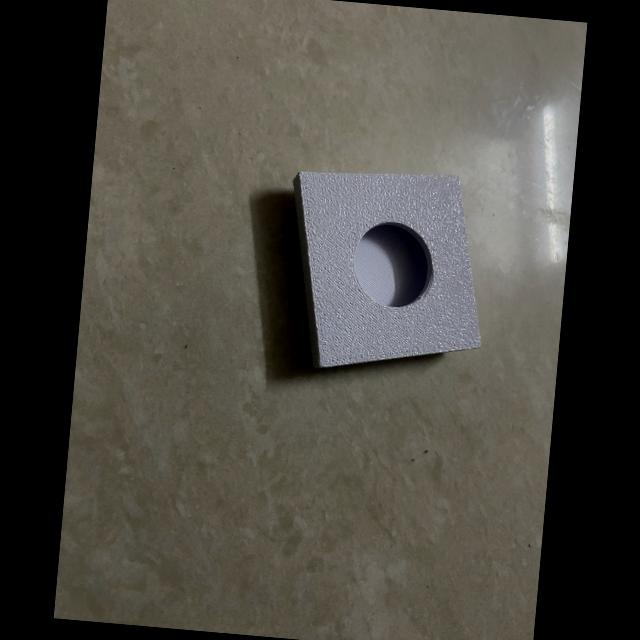RASPBERY PI CAM ENCLOSURE: (277, 160, 496, 382)
